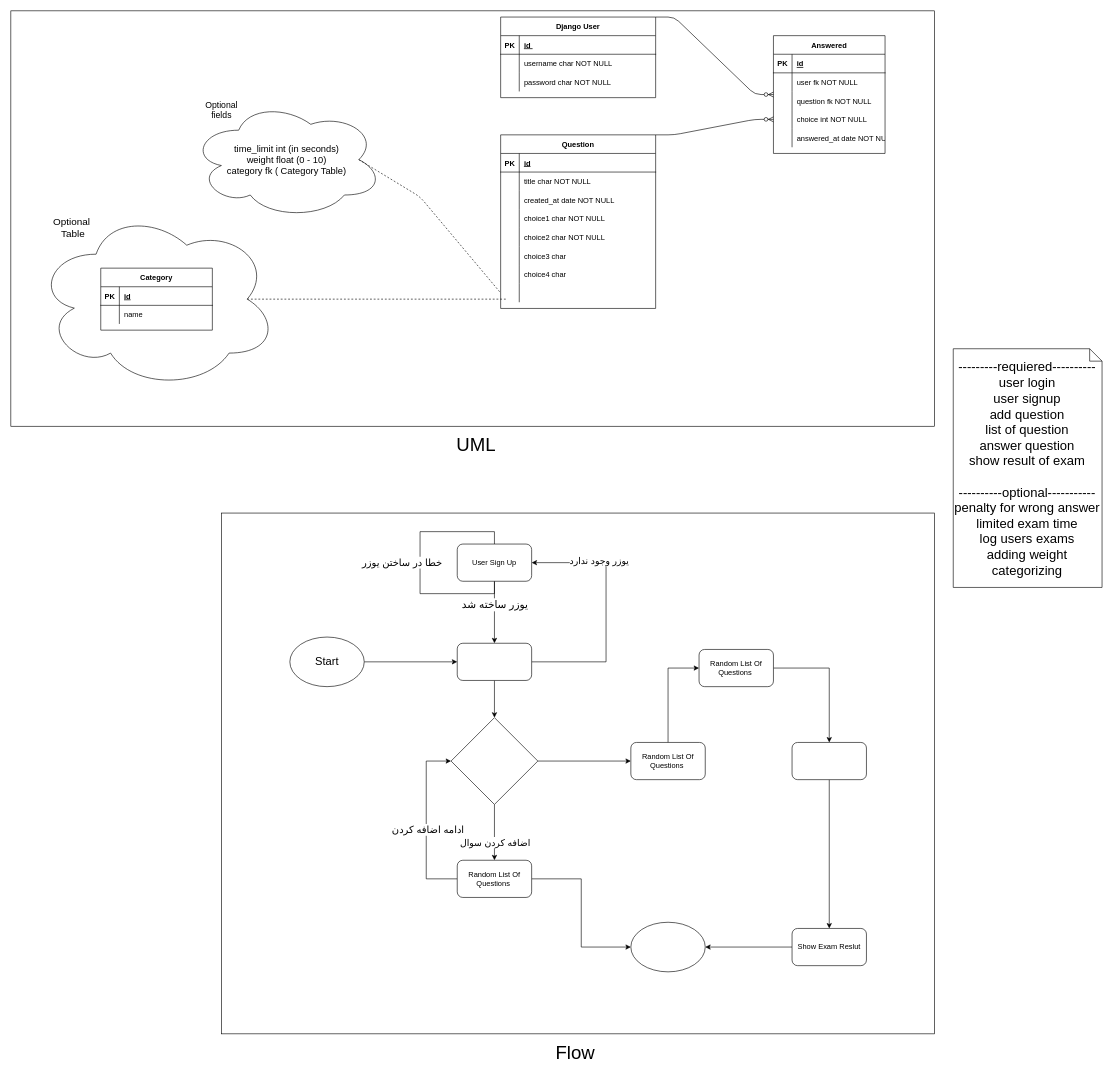
The diagram is 1113 pixels wide and 1074 high, and some of its shapes have lost their labels. Here are the shapes that lost their labels. From the top down, the centre of each, then its label:
At point 494,661: "User Log in".
At point 494,760: "Add Question Answer Question".
At point 828,761: "Calculate Percent".
At point 667,947: "Finish".
